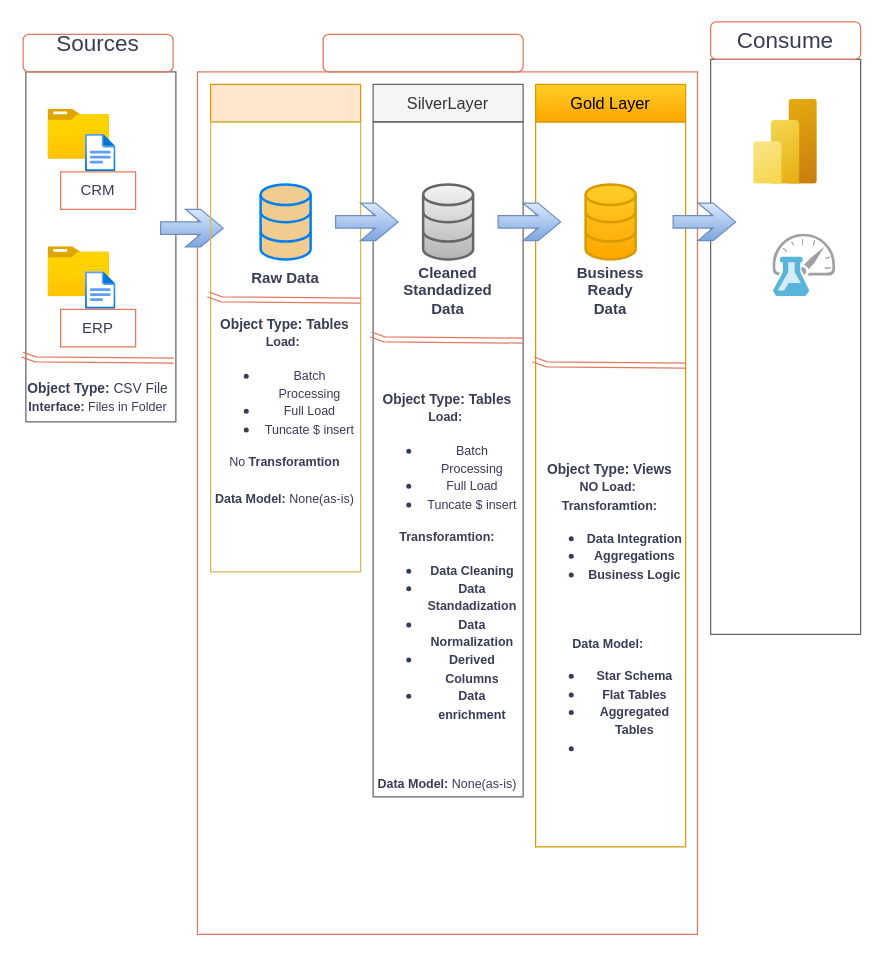
The diagram is 884 pixels wide and 956 high, and some of its shapes have lost their labels. Here are the shapes that lost their labels. From the top down, the centre of each, then its label:
At [422,52]: "Data Warehouse".
At [285,102]: "Bronze Layer".
